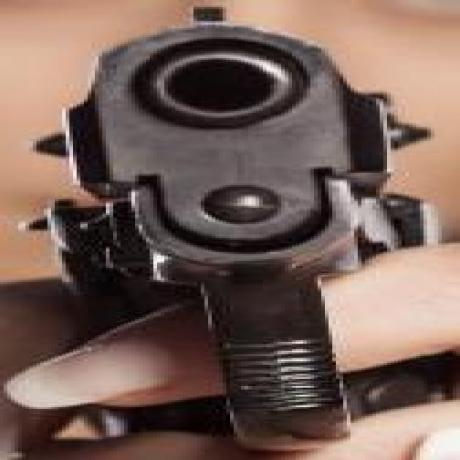weapon: (40, 16, 426, 435)
